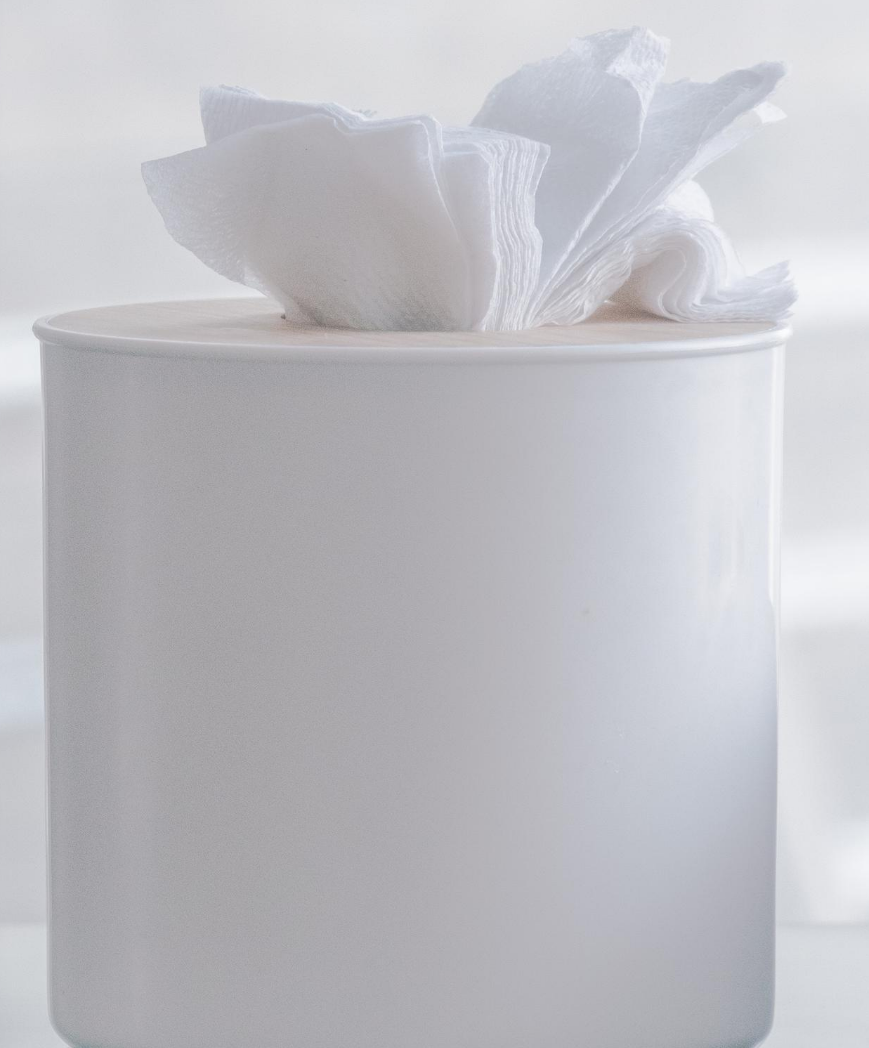Tissue: (135, 22, 806, 343)
